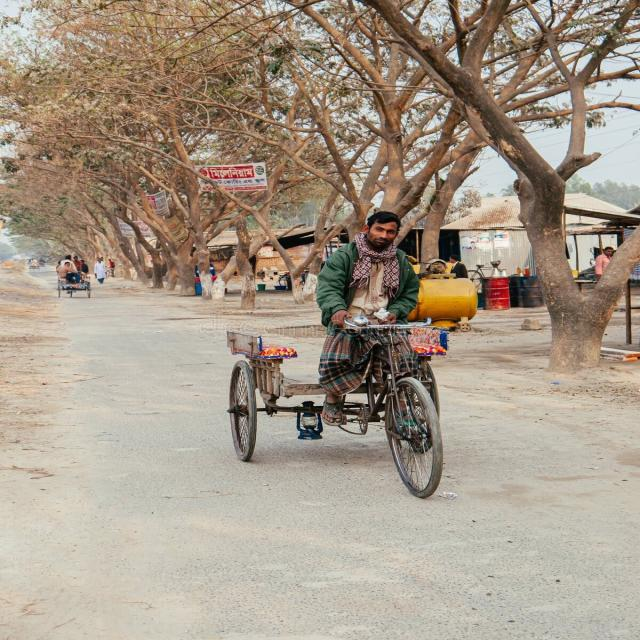Van: (168, 287, 497, 503)
